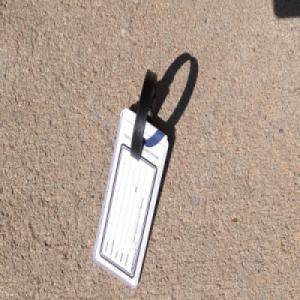LuggageTag: (91, 65, 169, 290)
